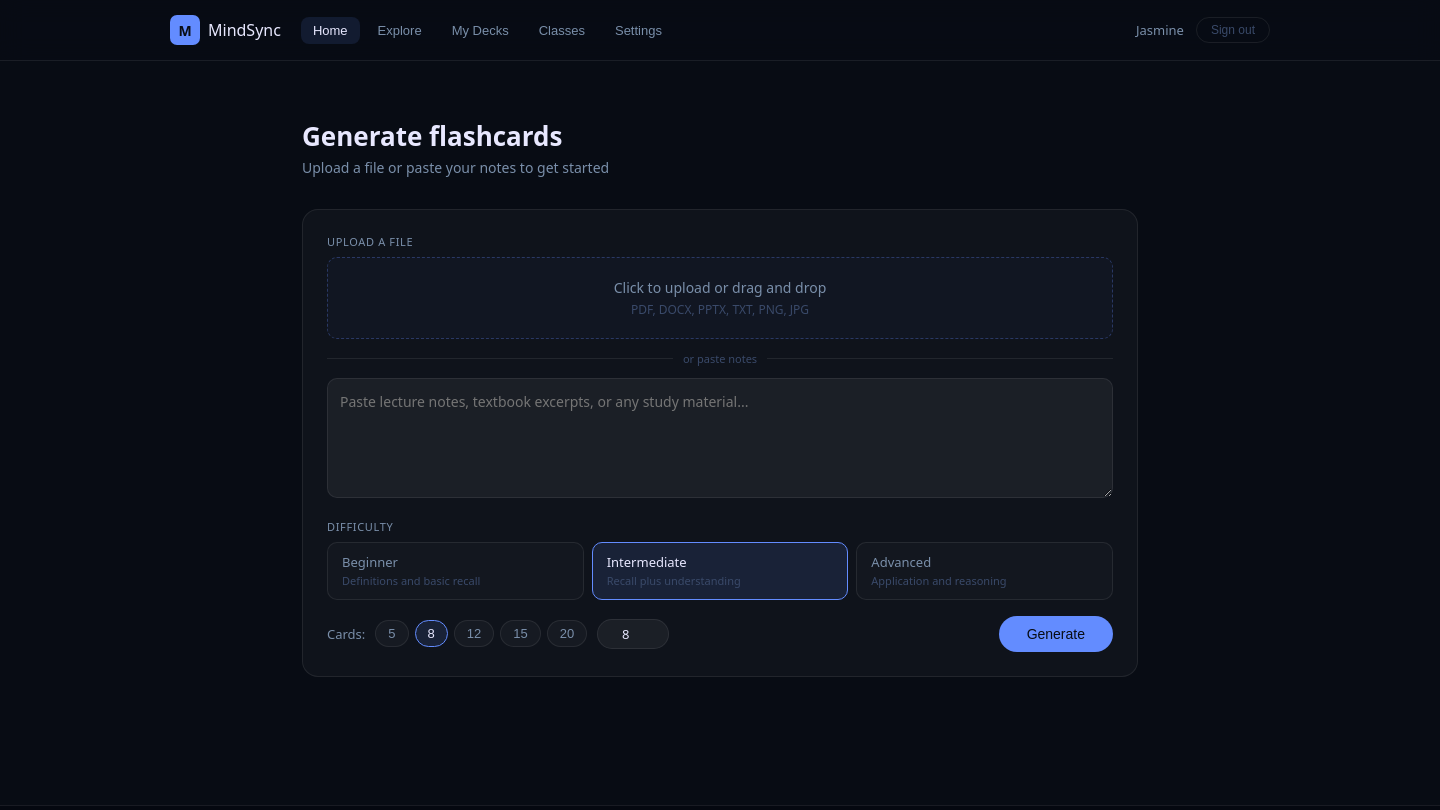
Test: navigation › switches to the Classes page
What coordinates should you click on to do the following:
click the button "Classes"
I would click on:
 (562, 30)
Its box is [527, 16, 597, 44].
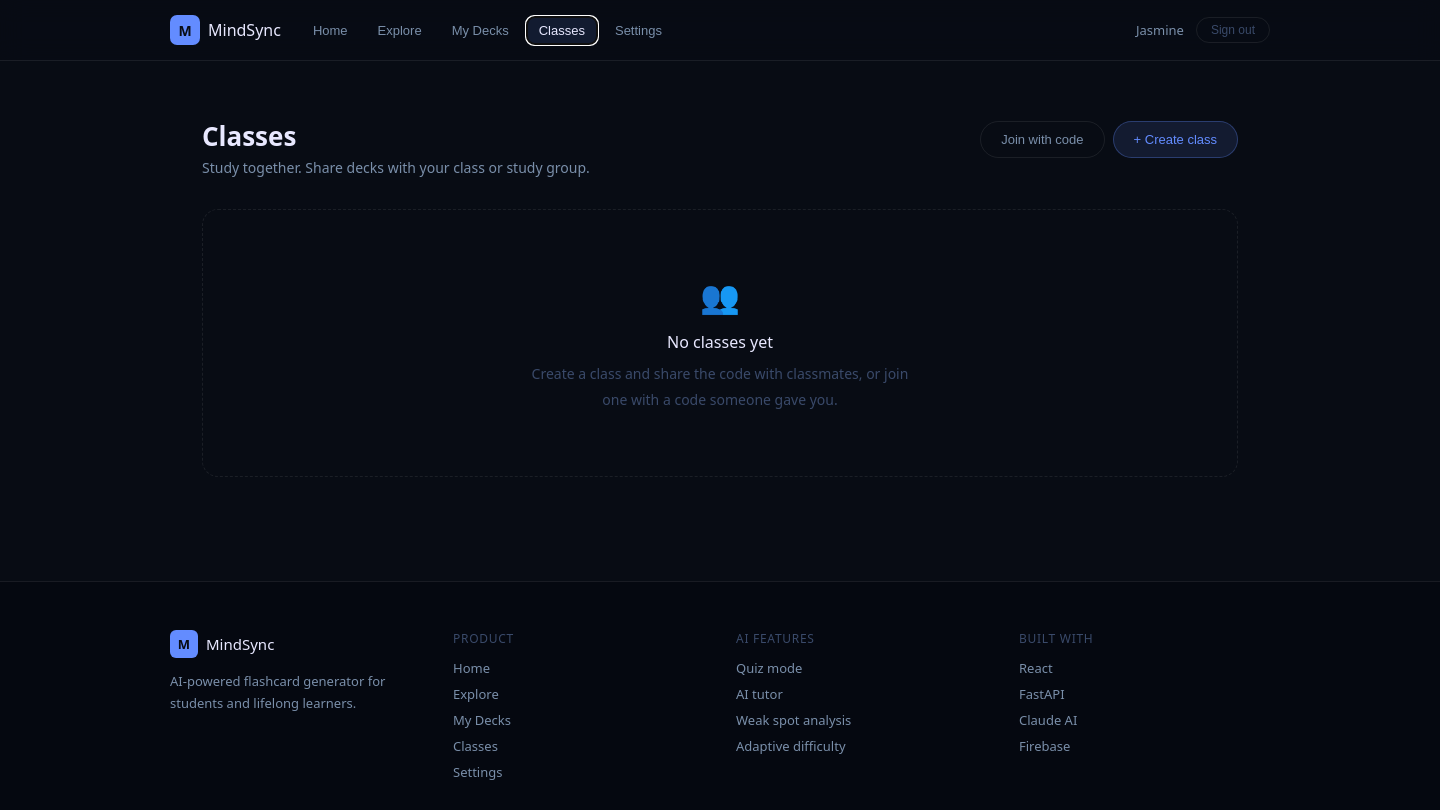
Check: the text "Study together. Share decks with your class or study group." is shown, box [202, 158, 590, 177]
